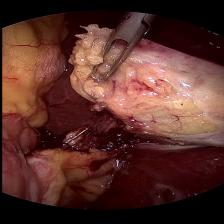Grasper: (82, 14, 156, 84)
